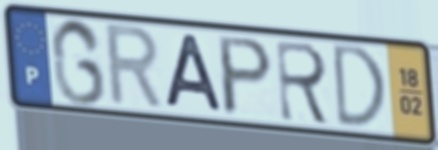A: (163, 31, 226, 116)
D: (331, 41, 389, 131)
G: (49, 15, 109, 109)
P: (216, 33, 276, 118)
R: (104, 21, 168, 114), (273, 37, 334, 128)
